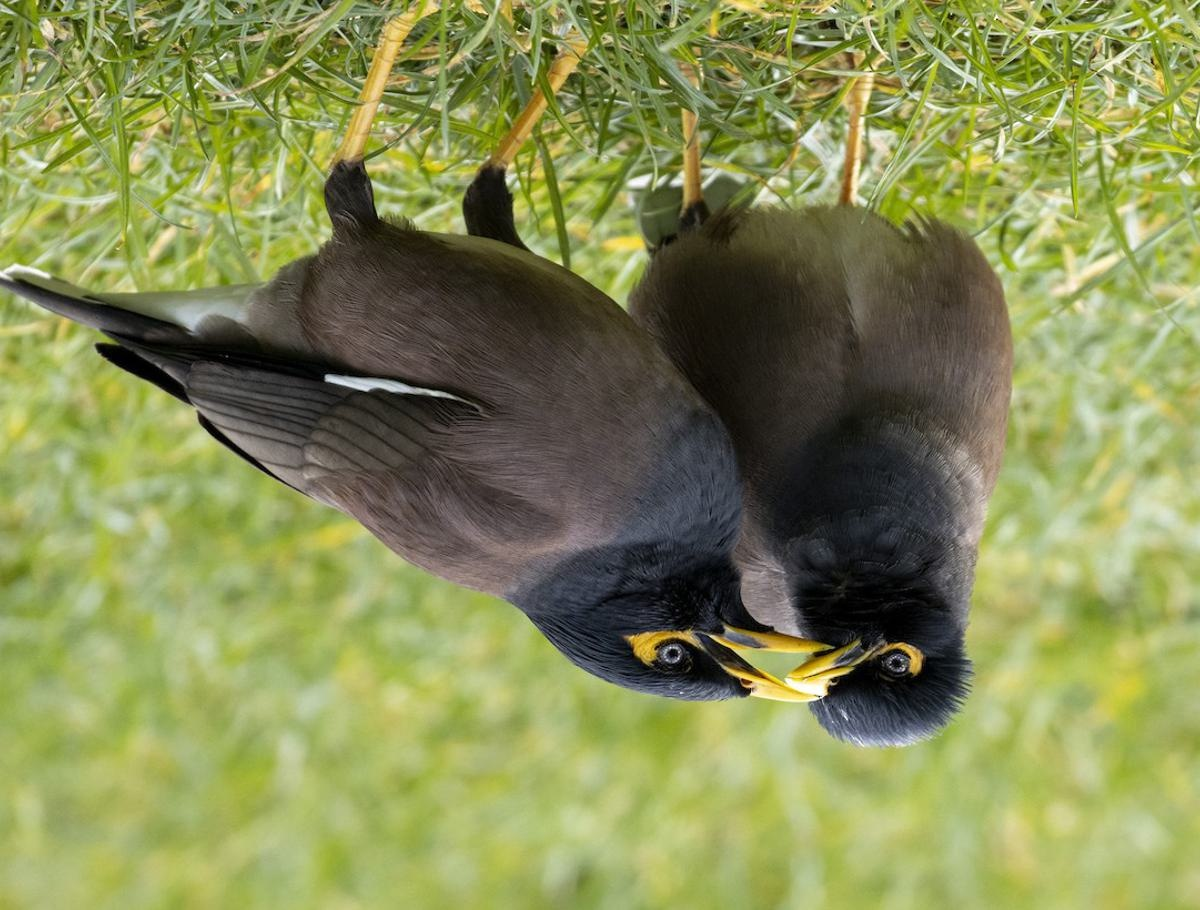myna: (108, 76, 801, 757), (674, 97, 1035, 758)
